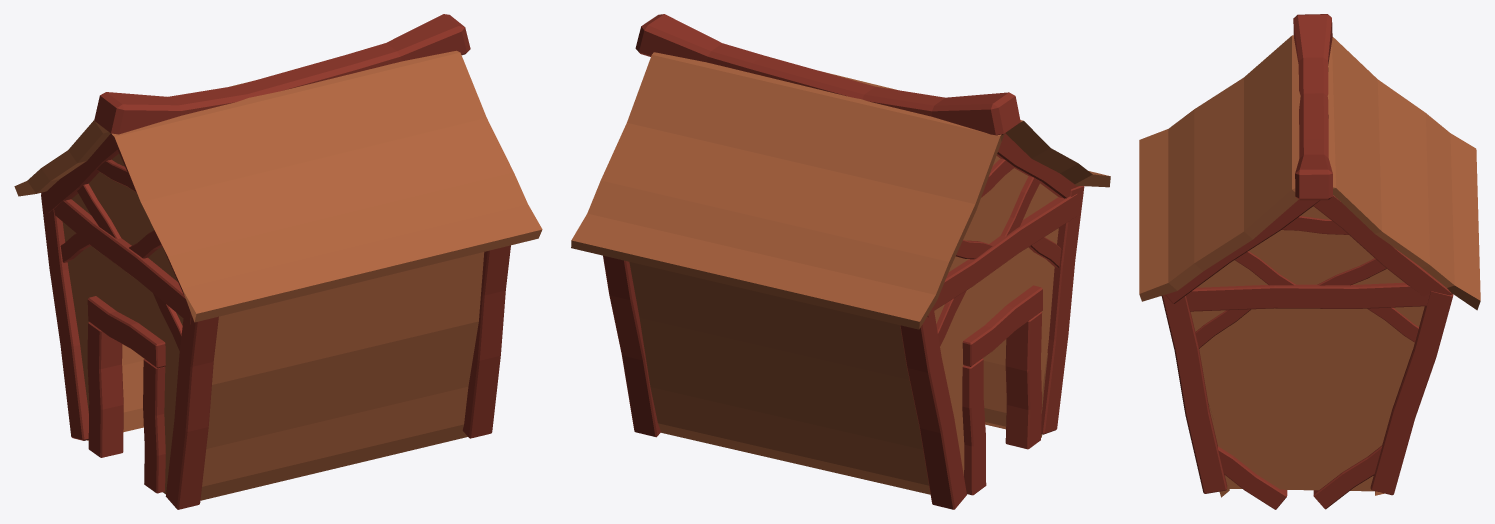
Rendered from Cottage.fbx.
3 views of the same model, side by side, from view 1: azimuth 30°, elevation 25°; view 2: azimuth 150°, elevation 25°; view 3: azimuth 270°, elevation 25° (orthographic). The views are drawn at different scales.
Parts seen in each view (by area): view 1: Cube.007, Cube.031, Cube.027, Cube.004, Cube.014, Cube.001, Cube.013, Cube.018, Cube.017, Cube.020, Cube.019, Cube.029 (+3 smaller); view 2: Cube.029, Cube.030, Cube.027, Cube.004, Cube.013, Cube, Cube.020, Cube.014, Cube.017, Cube.018, Cube.019, Cube.007 (+4 smaller); view 3: Cube.028, Cube.007, Cube.029, Cube.004, Cube.026, Cube, Cube.001, Cube.002, Cube.003, Cube.006, Cube.005, Cube.011 (+4 smaller).
Boxes of the visible parts, bbox=[...] form: Cube.007: bbox=[112, 50, 542, 322]; Cube.031: bbox=[200, 252, 484, 500]; Cube.027: bbox=[62, 153, 183, 494]; Cube.004: bbox=[94, 14, 470, 134]; Cube.014: bbox=[165, 314, 218, 509]; Cube.001: bbox=[462, 245, 510, 438]; Cube.013: bbox=[41, 194, 88, 440]; Cube.018: bbox=[87, 322, 123, 457]; Cube.017: bbox=[54, 199, 191, 324]; Cube.020: bbox=[143, 359, 165, 493]; Cube.019: bbox=[87, 296, 165, 368]; Cube.029: bbox=[14, 81, 252, 196]; Cube.029: bbox=[571, 52, 1004, 329]; Cube.030: bbox=[629, 262, 930, 494]; Cube.027: bbox=[934, 156, 1058, 475]; Cube.004: bbox=[635, 14, 1020, 135]; Cube.013: bbox=[900, 307, 966, 509]; Cube: bbox=[603, 255, 660, 437]; Cube.020: bbox=[1005, 312, 1041, 449]; Cube.014: bbox=[1041, 186, 1084, 434]; Cube.017: bbox=[933, 194, 1077, 310]; Cube.018: bbox=[962, 358, 986, 495]; Cube.019: bbox=[962, 285, 1042, 366]; Cube.007: bbox=[820, 71, 1110, 187]; Cube.028: bbox=[1191, 206, 1424, 491]; Cube.007: bbox=[1139, 35, 1300, 301]; Cube.029: bbox=[1327, 37, 1480, 310]; Cube.004: bbox=[1293, 14, 1332, 200]; Cube.026: bbox=[1186, 282, 1435, 311]; Cube: bbox=[1370, 291, 1453, 495]; Cube.001: bbox=[1161, 295, 1227, 493]; Cube.002: bbox=[1313, 195, 1452, 296]; Cube.003: bbox=[1165, 200, 1319, 303]; Cube.006: bbox=[1218, 446, 1287, 509]; Cube.005: bbox=[1313, 445, 1382, 509]; Cube.011: bbox=[1317, 258, 1386, 285].
Bounding box in the file's own units: 19.36 × 19.86 × 17.29.
1 material, 1 textured.
